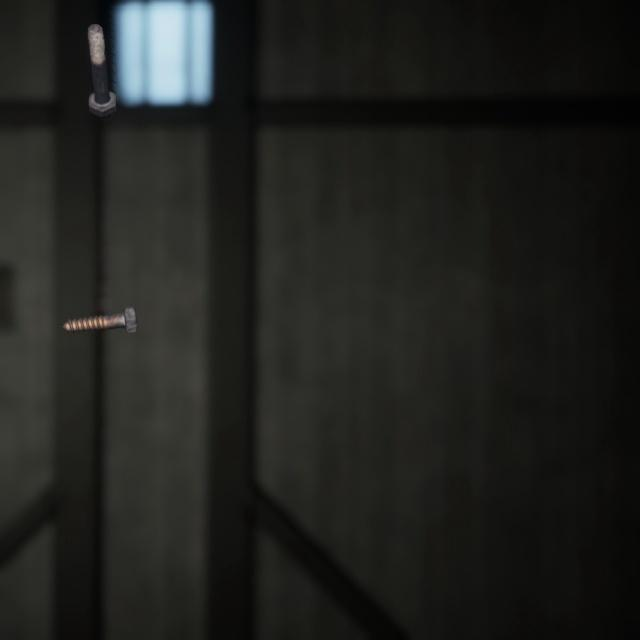bolt: (83, 9, 121, 111), (57, 284, 141, 320)
